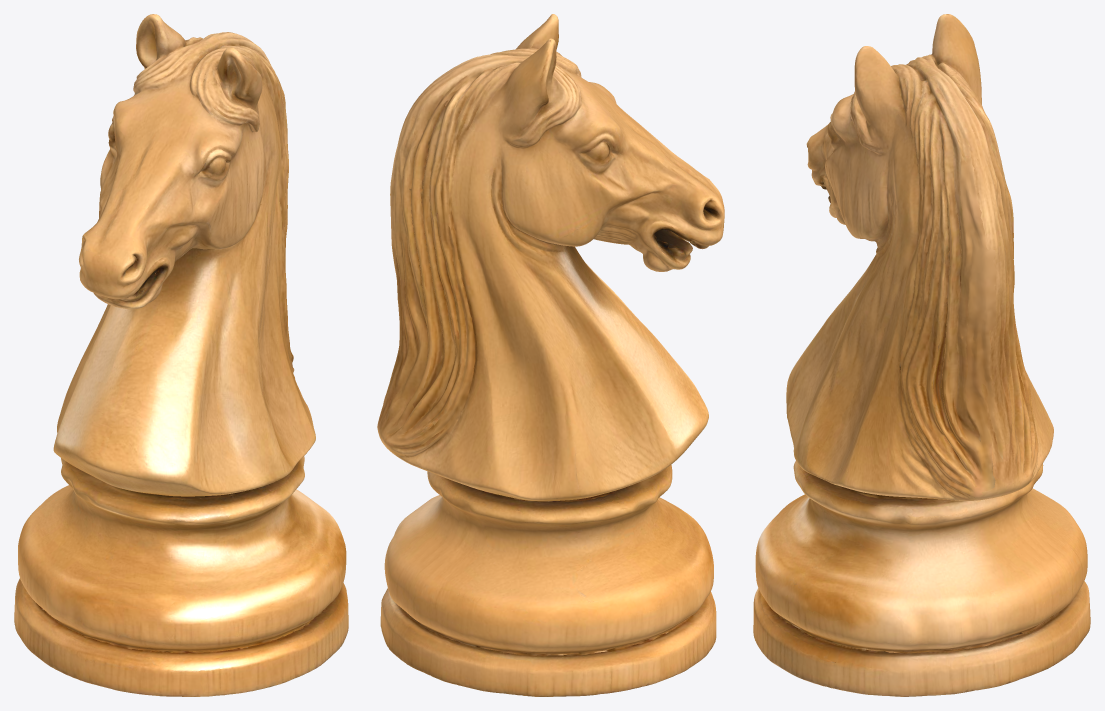
File: springer_kopf.glb
3 renders of one model, left to right at view 1: azimuth 30°, elevation 25°; view 2: azimuth 150°, elevation 25°; view 3: azimuth 270°, elevation 25°, orthographic.
Visible parts, largest first — view 1: Mesh_0; view 2: Mesh_0; view 3: Mesh_0.
Boxes of the visible parts, left/top/right/bottom form: Mesh_0: left=14, top=14, right=348, bottom=696; Mesh_0: left=377, top=14, right=724, bottom=696; Mesh_0: left=753, top=14, right=1090, bottom=696.
Size of the model in its own units: 0.4971 by 1 by 0.501.
1 material, 1 textured.
